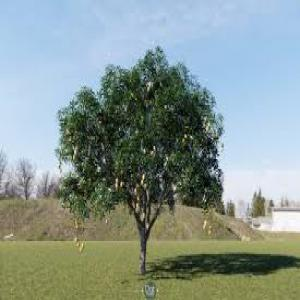Tree: (56, 45, 224, 270)
